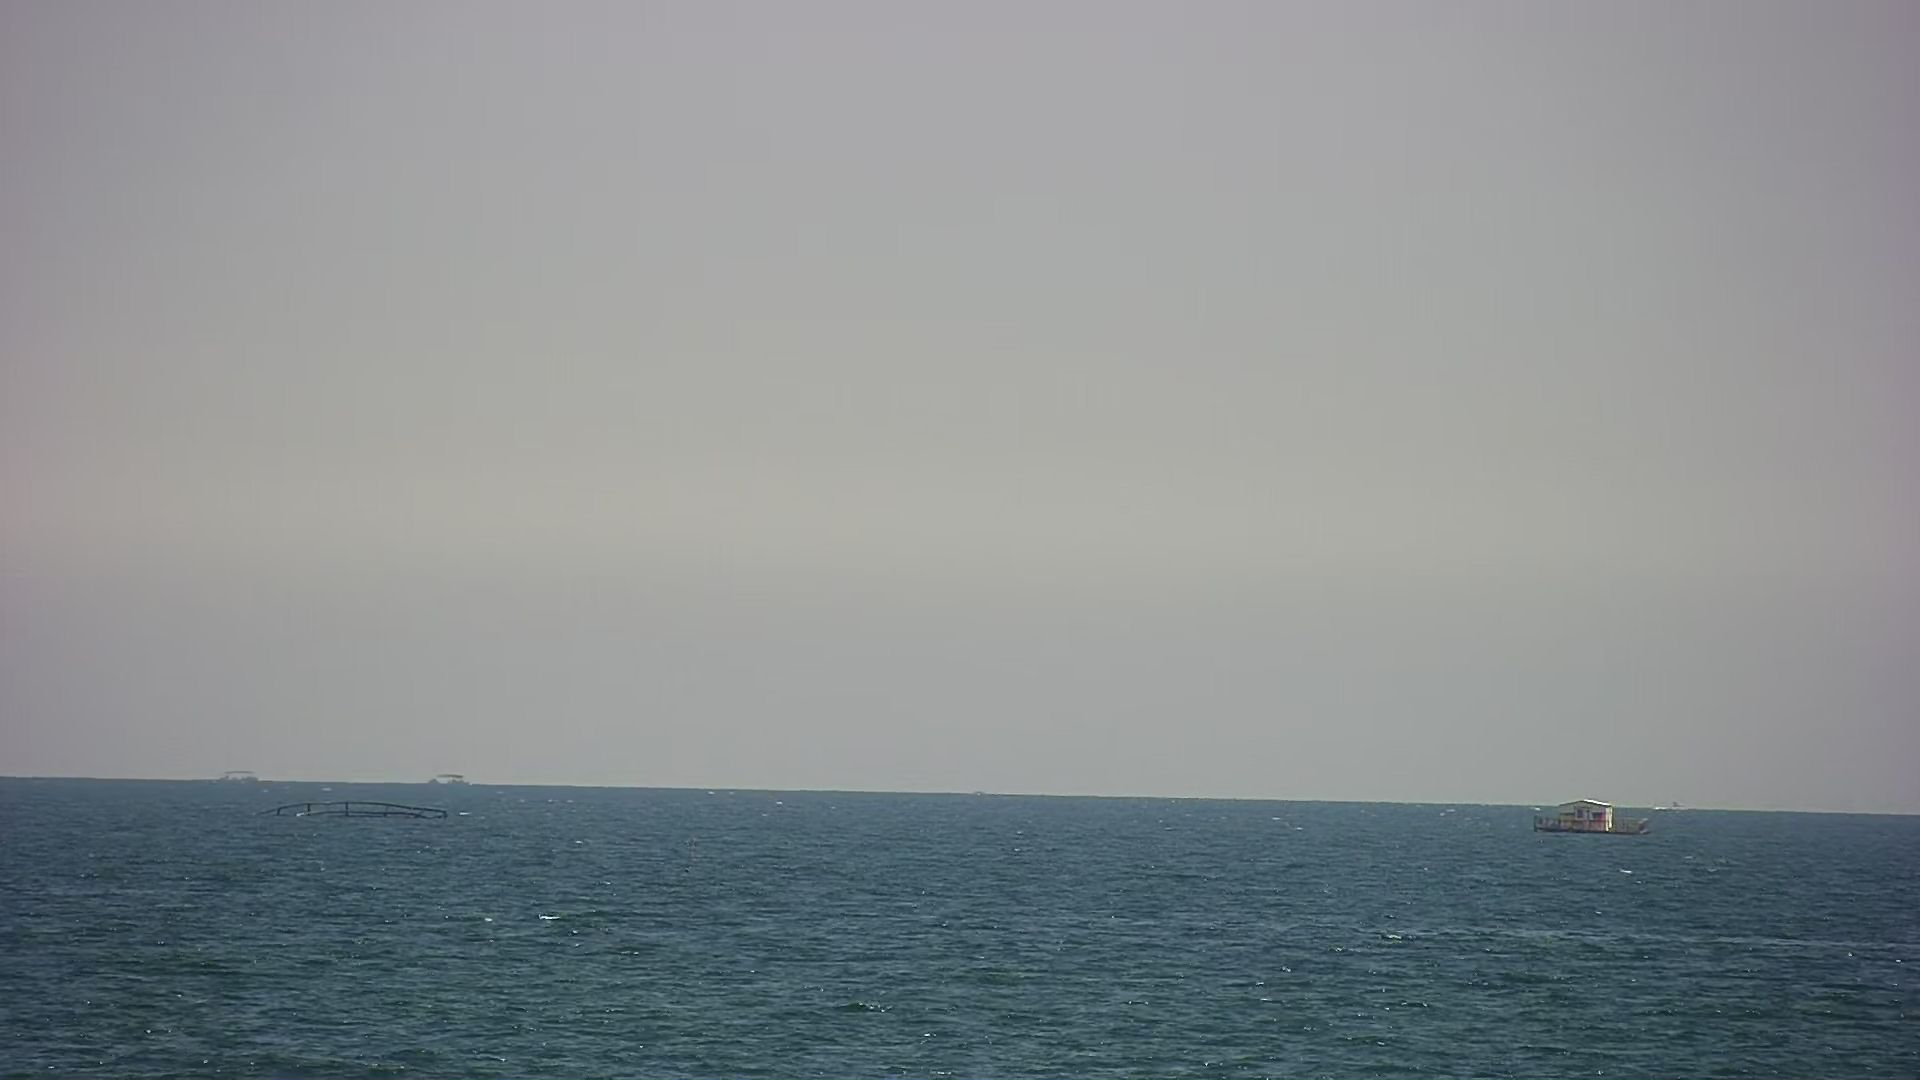platform: (1516, 790, 1660, 844), (245, 796, 462, 827), (211, 762, 262, 781), (427, 764, 471, 785)
